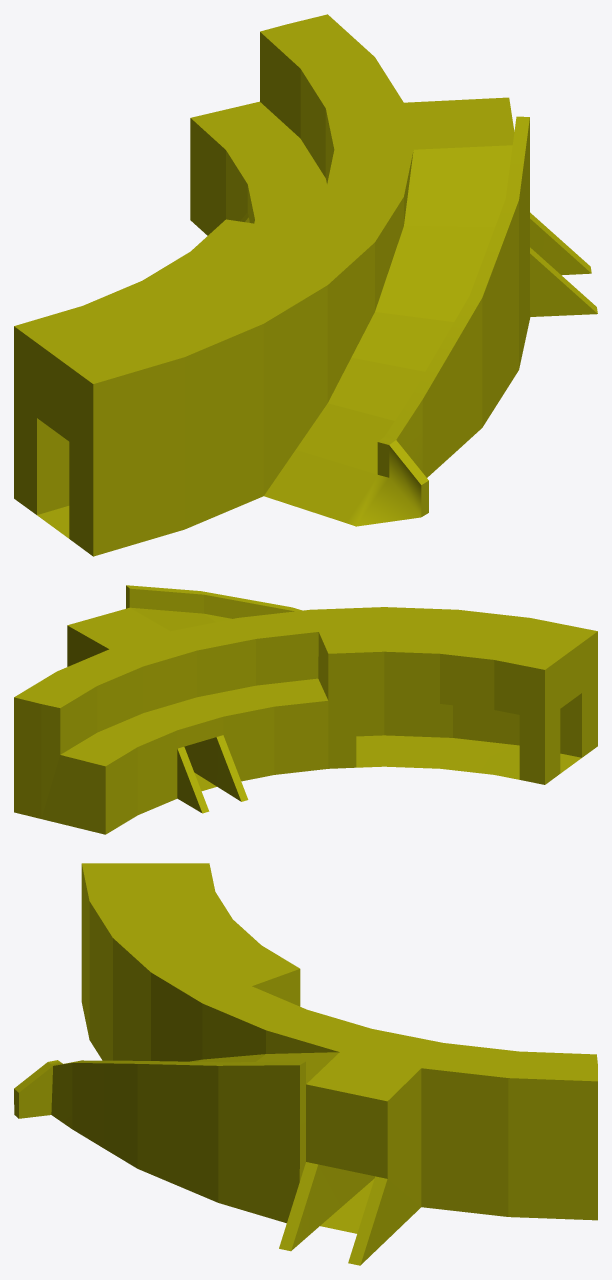
Rendered from outerwallnewnew3+tunnel.fbx.
The picture shows the model from 3 angles, top to bottom: view 1: azimuth 30°, elevation 25°; view 2: azimuth 150°, elevation 25°; view 3: azimuth 270°, elevation 25°; orthographic projection. The views are drawn at different scales.
Visible parts, largest first — view 1: polySurface28, polySurface29; view 2: polySurface28, polySurface29; view 3: polySurface28, polySurface29.
Part boxes in pixels (x1,y1,x2,y2): polySurface28: [14, 14, 597, 556]; polySurface29: [245, 217, 591, 275]; polySurface28: [14, 585, 597, 834]; polySurface29: [184, 737, 241, 801]; polySurface28: [14, 863, 597, 1265]; polySurface29: [291, 1164, 375, 1250].
Bounding box in the file's own units: 48.32 × 13.84 × 45.25.
